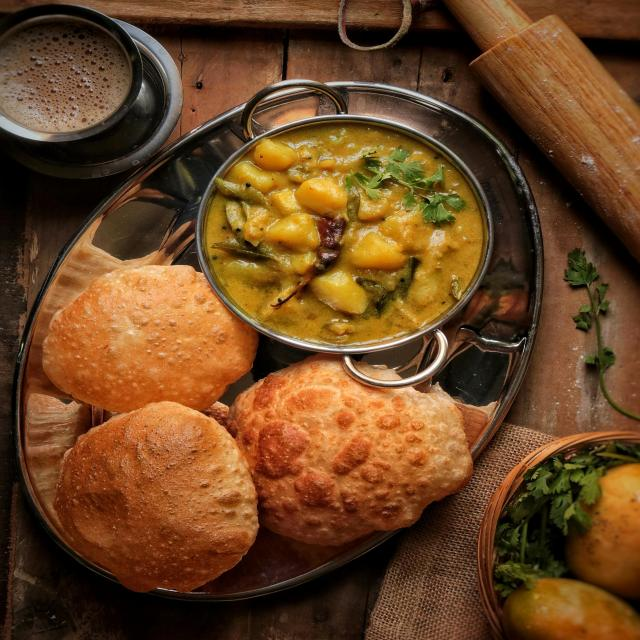Aloo Sabji: (206, 119, 490, 347)
Poori: (231, 358, 468, 546), (50, 402, 256, 590), (41, 264, 255, 409)
